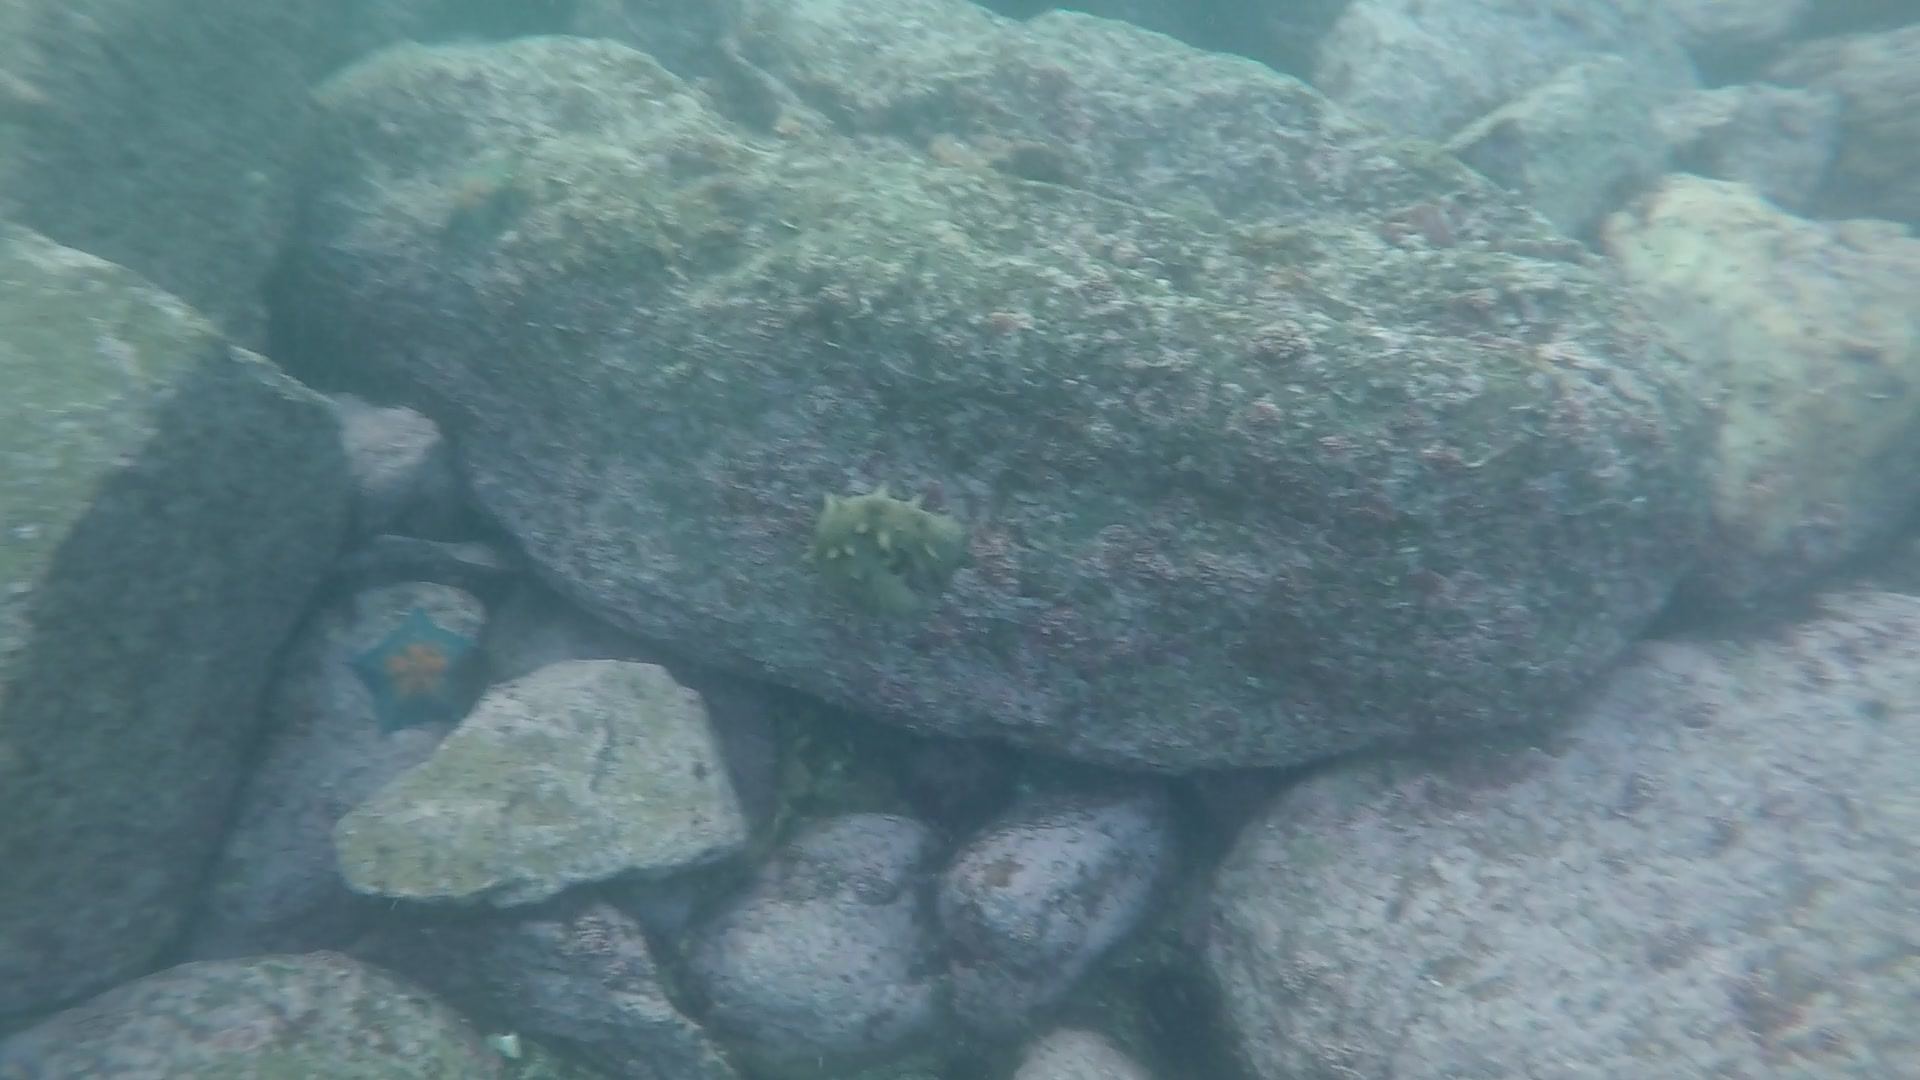echinus: (1120, 969, 1246, 1080)
holothurian: (803, 481, 978, 609)
starfish: (345, 604, 502, 733)
